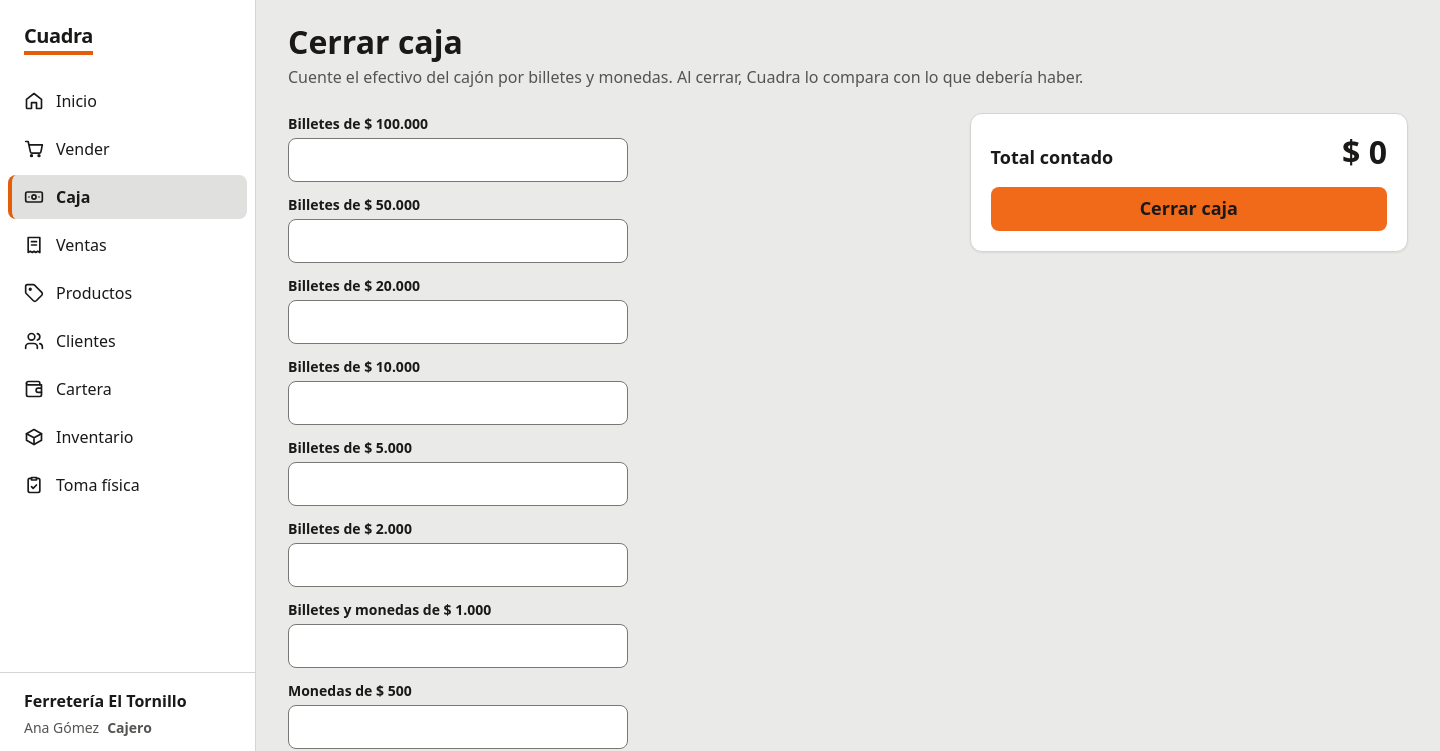
it: CloseCashPage › suma lo contado por denominación mientras se escribe, sin mostrar el esperado
Type "1" into the field labelled "Billetes de $ 100.000" at (458,160), box [288,138,628,182]
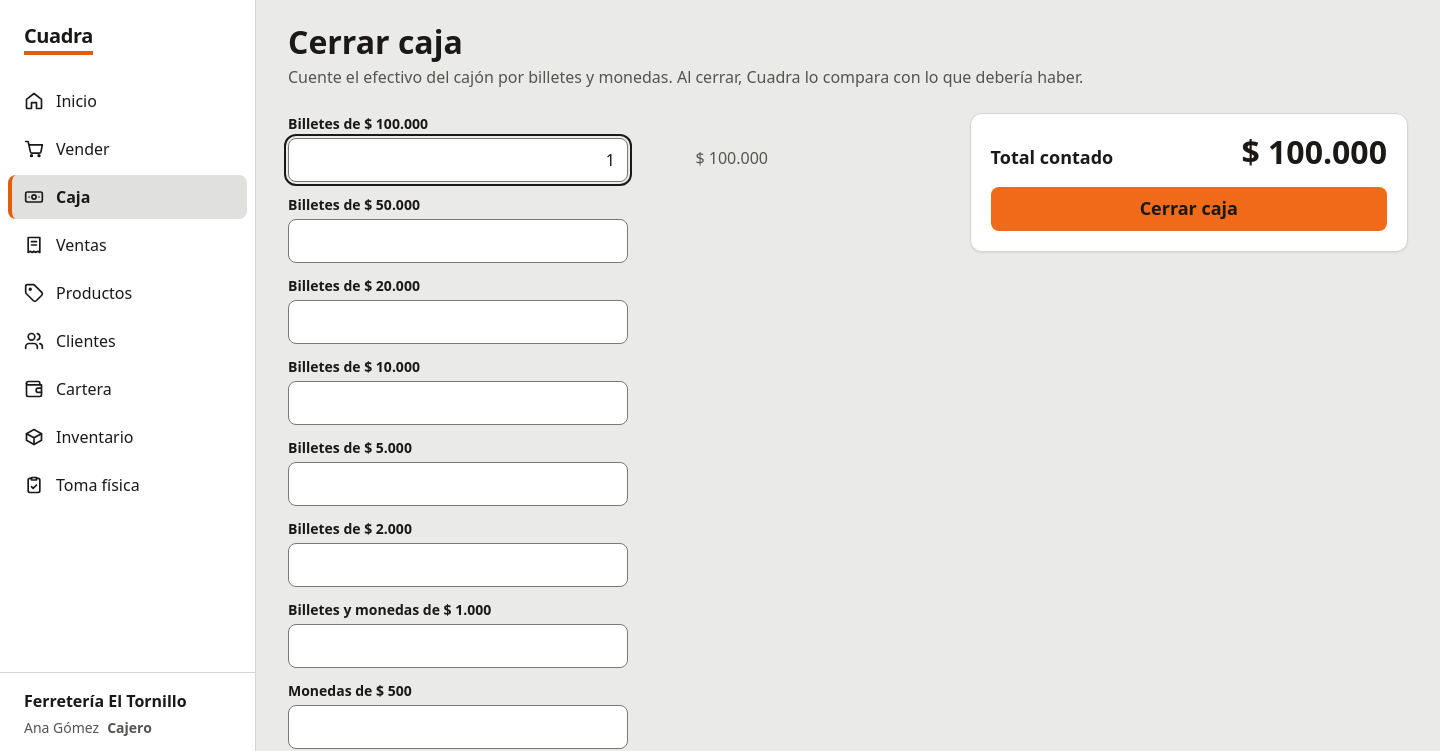
Type "2" into the field labelled "Billetes de $ 20.000" at (458,322), box [288,300,628,344]
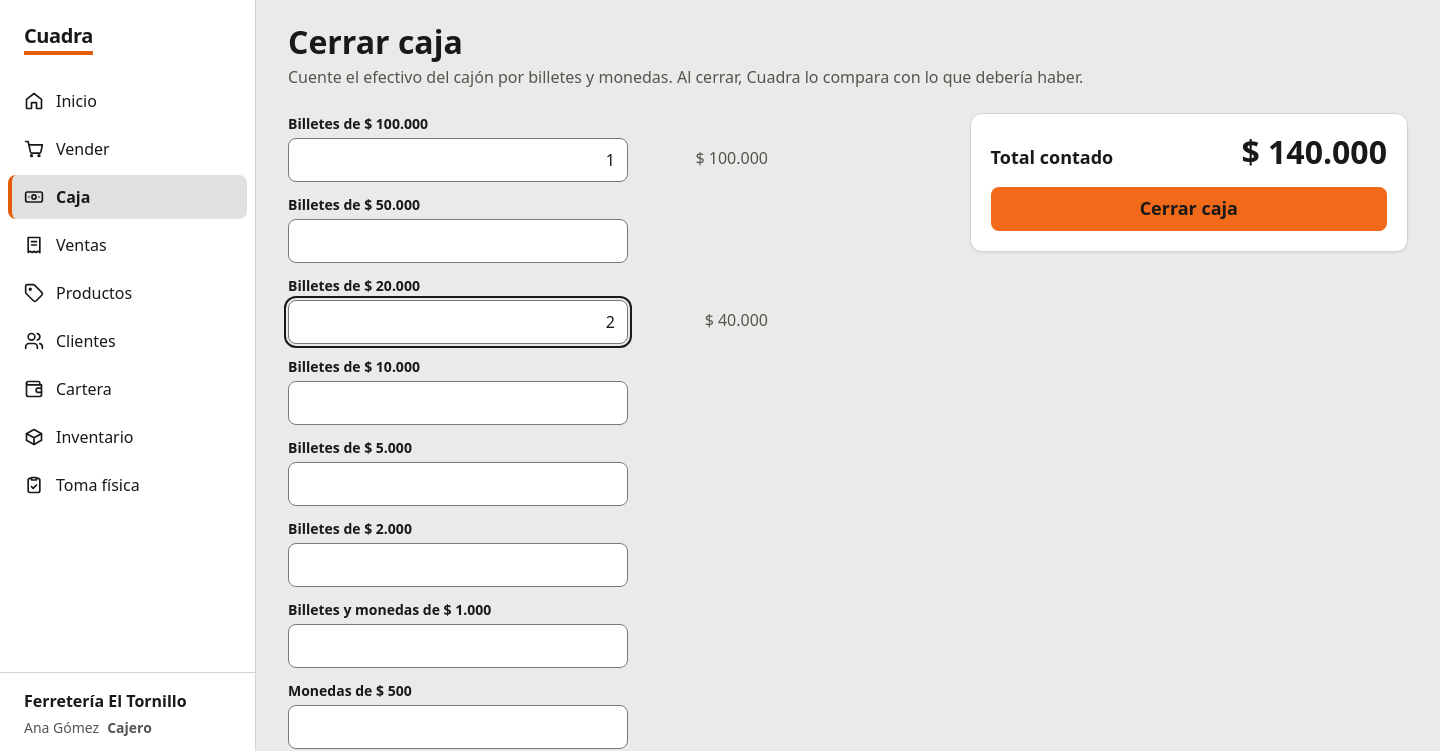
Type "3" into the field labelled "Monedas de $ 500" at (458,727), box [288,705,628,749]
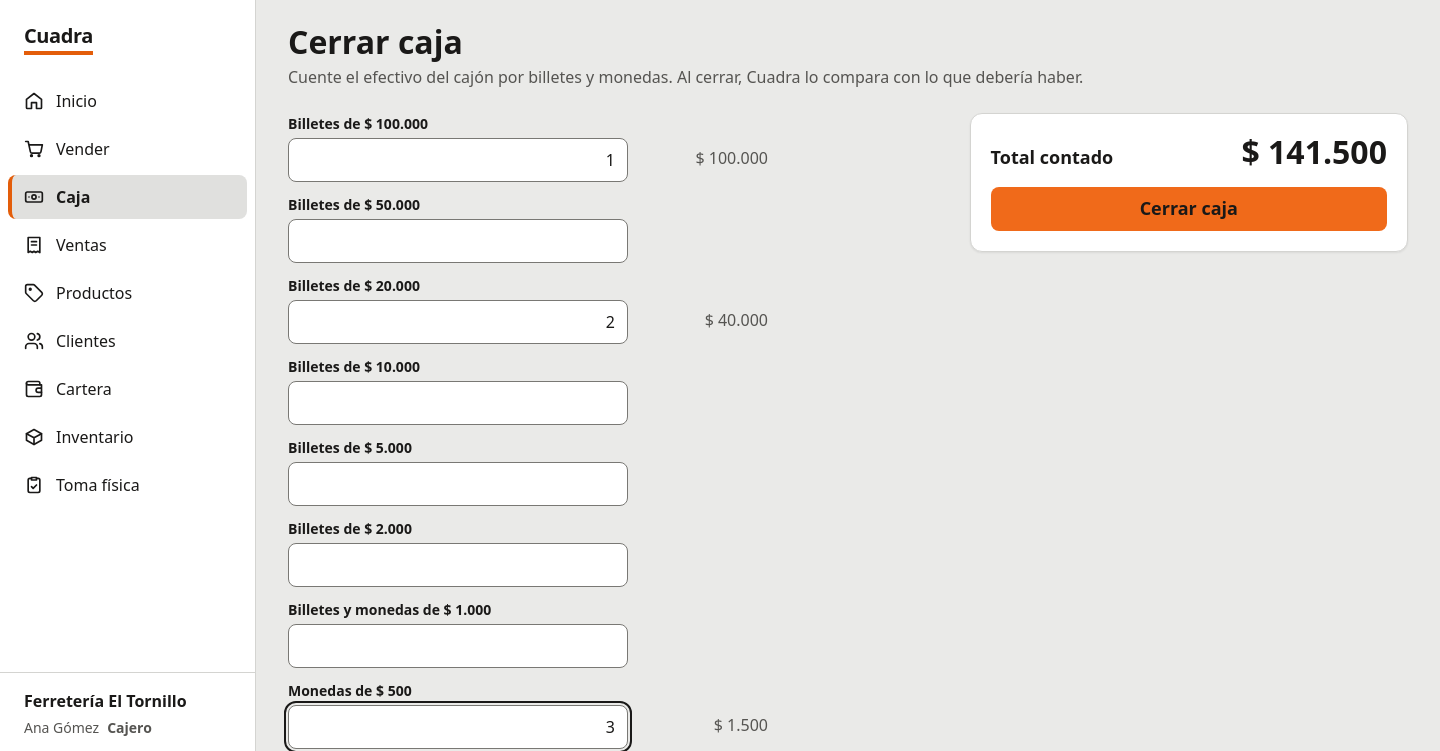
Now the message "Total contado" shows "$ 141.500", box [1241,130,1387,173]
